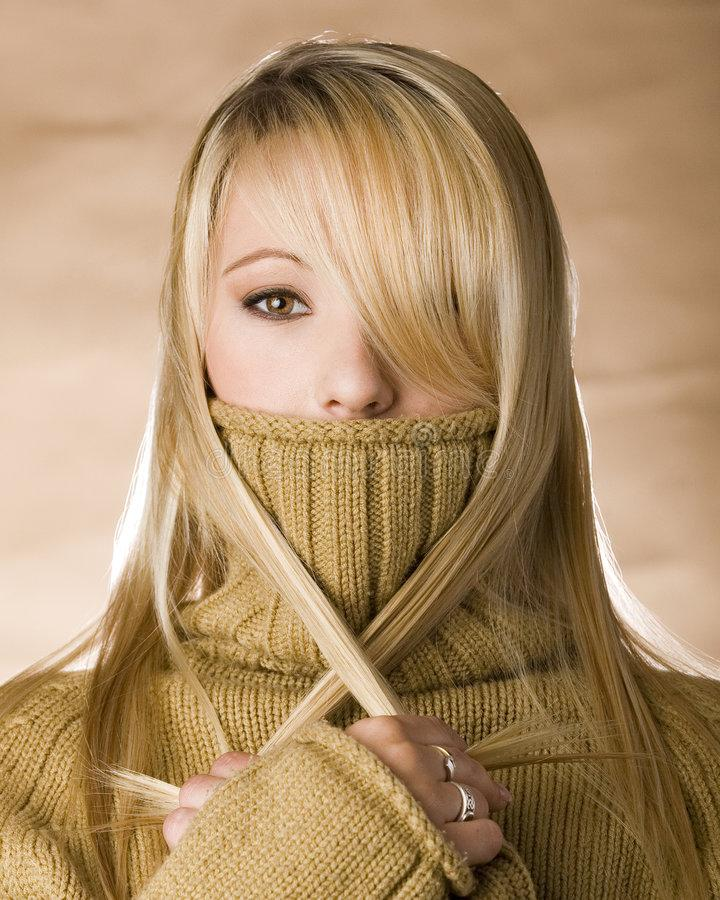Wore Mask Incorrectly: (156, 26, 580, 564)
